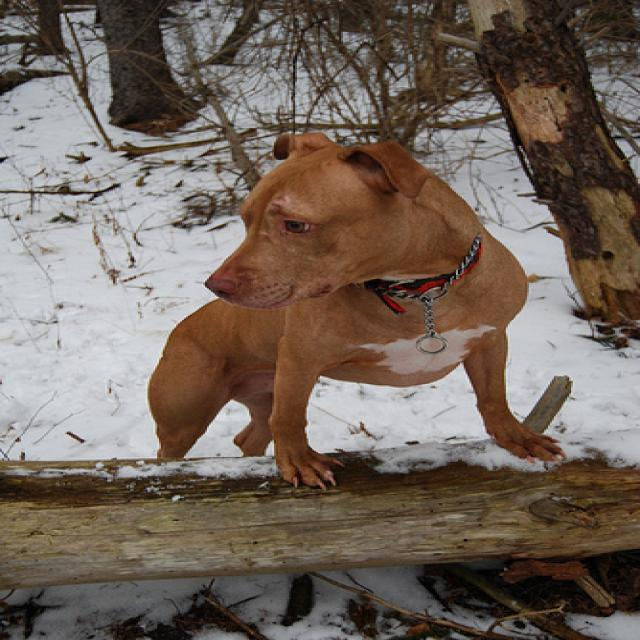dog-american_pit_bull_terrier: (136, 122, 583, 494)
